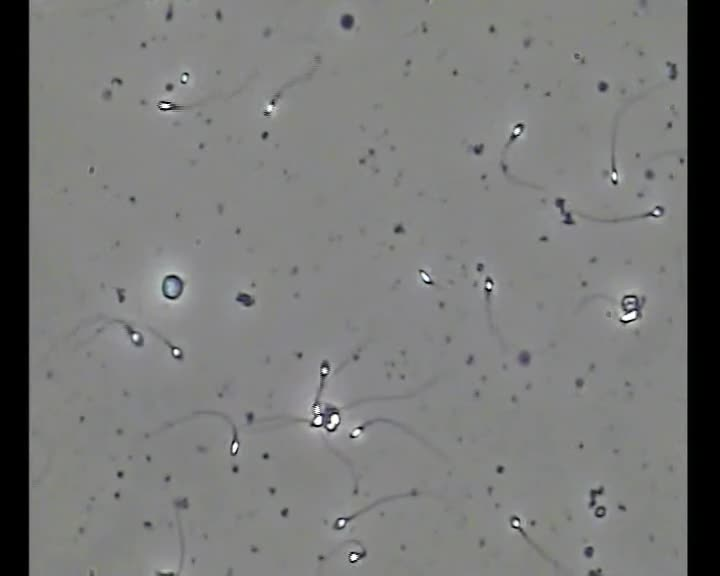spermhead: (619, 294, 643, 323), (161, 273, 184, 300), (325, 406, 341, 432), (263, 93, 279, 117), (509, 122, 525, 141), (127, 327, 143, 346), (417, 268, 434, 285), (347, 548, 365, 563), (157, 99, 177, 111), (509, 514, 523, 531), (648, 205, 664, 218), (230, 432, 239, 455), (484, 275, 495, 293), (310, 413, 324, 427), (333, 516, 348, 529), (349, 425, 364, 438), (319, 360, 330, 377), (608, 168, 619, 185), (170, 345, 183, 359), (179, 71, 190, 84), (156, 569, 176, 575), (312, 402, 321, 414)
